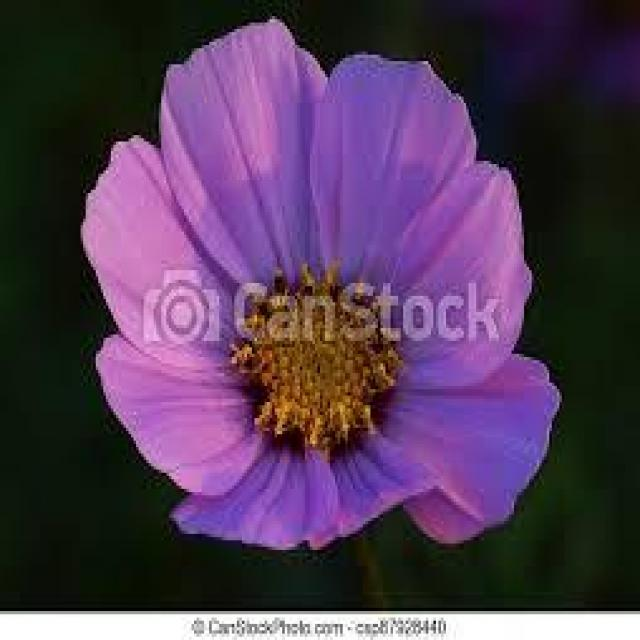organic waste: (82, 26, 561, 544)
